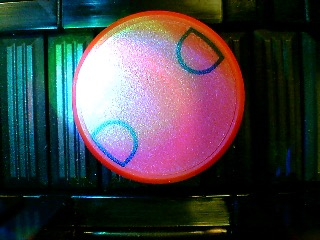MIPO2: (72, 10, 246, 184)
